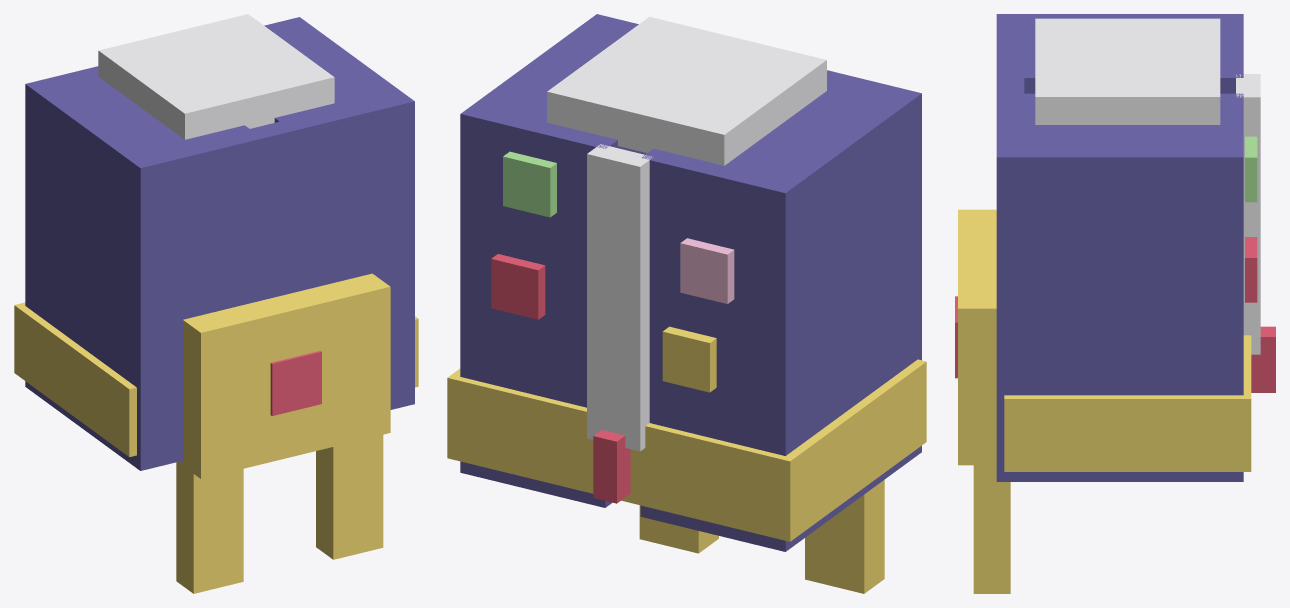
Rendered from yukata_tronco.glb.
3 views of the same model, side by side, from view 1: azimuth 30°, elevation 25°; view 2: azimuth 150°, elevation 25°; view 3: azimuth 270°, elevation 25° (orthographic). The views are drawn at different scales.
Parts seen in each view (by area): view 1: yukata_tronco; view 2: yukata_tronco; view 3: yukata_tronco.
Part boxes in pixels (<box>): yukata_tronco: <box>14,14,418,593</box>; yukata_tronco: <box>447,14,926,593</box>; yukata_tronco: <box>955,14,1275,593</box>.
Bounding box in the file's own units: 0.58 × 0.87 × 0.52.
